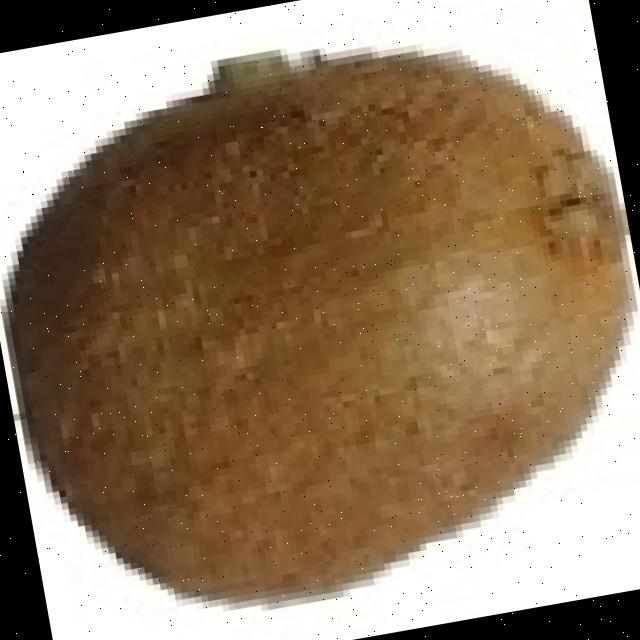kiwi: (21, 66, 639, 610)
